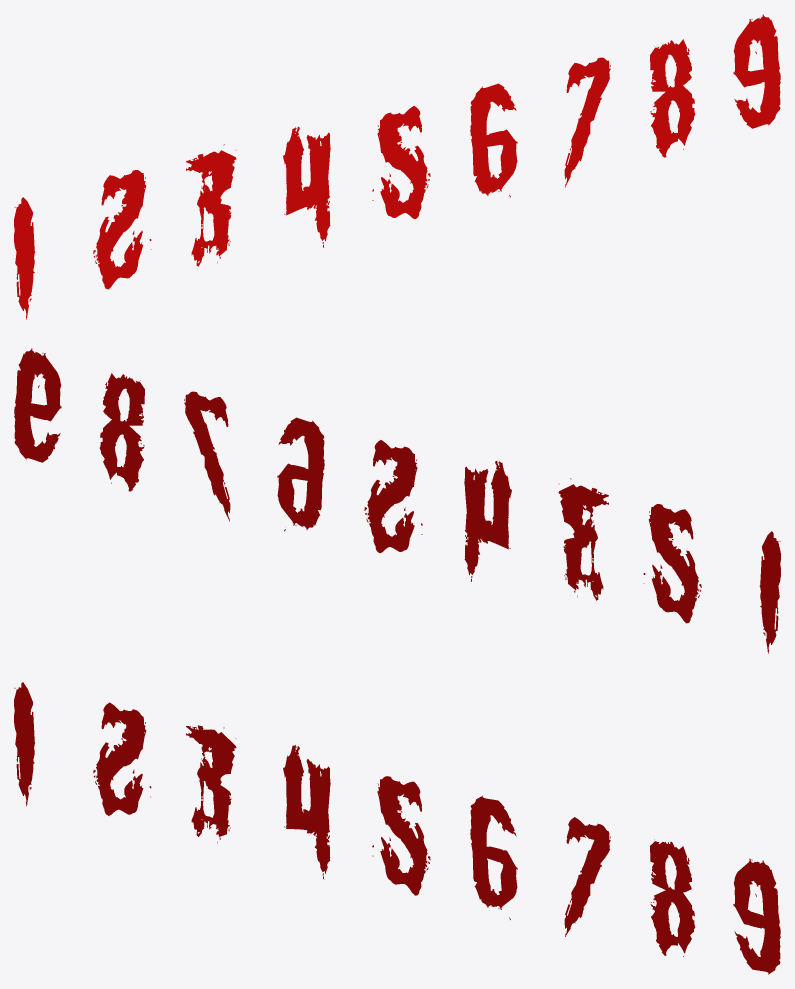
File: Numeros.fbx
3 views of the same model, one above another, from view 1: azimuth 30°, elevation 25°; view 2: azimuth 150°, elevation 25°; view 3: azimuth 330°, elevation 25° (orthographic).
Parts seen in each view (by area): view 1: 9, 8, 2, 5, 4, 6, 3, 7, 1; view 2: 9, 8, 2, 5, 4, 6, 3, 7, 1; view 3: 9, 8, 5, 2, 4, 6, 3, 7, 1.
Boxes of the visible parts, left/top/right/bottom form: 9: left=733, top=14, right=780, bottom=128; 8: left=650, top=39, right=695, bottom=157; 2: left=93, top=170, right=151, bottom=289; 5: left=372, top=106, right=430, bottom=218; 4: left=283, top=127, right=330, bottom=247; 6: left=470, top=83, right=517, bottom=197; 3: left=186, top=144, right=236, bottom=266; 7: left=564, top=57, right=610, bottom=187; 1: left=14, top=197, right=35, bottom=319; 9: left=14, top=348, right=61, bottom=462; 8: left=99, top=373, right=144, bottom=491; 2: left=643, top=504, right=701, bottom=623; 5: left=364, top=440, right=422, bottom=552; 4: left=464, top=461, right=511, bottom=581; 6: left=277, top=417, right=324, bottom=531; 3: left=558, top=478, right=608, bottom=600; 7: left=184, top=391, right=230, bottom=521; 1: left=759, top=531, right=780, bottom=653; 9: left=733, top=858, right=780, bottom=974; 8: left=650, top=839, right=695, bottom=956; 5: left=372, top=776, right=430, bottom=895; 2: left=93, top=702, right=151, bottom=815; 4: left=283, top=745, right=330, bottom=879; 6: left=470, top=795, right=517, bottom=919; 3: left=186, top=725, right=236, bottom=843; 7: left=564, top=817, right=610, bottom=936; 1: left=14, top=682, right=34, bottom=806.
Bounding box in the file's own units: 4.5 × 0.7192 × 8.57e-08.
